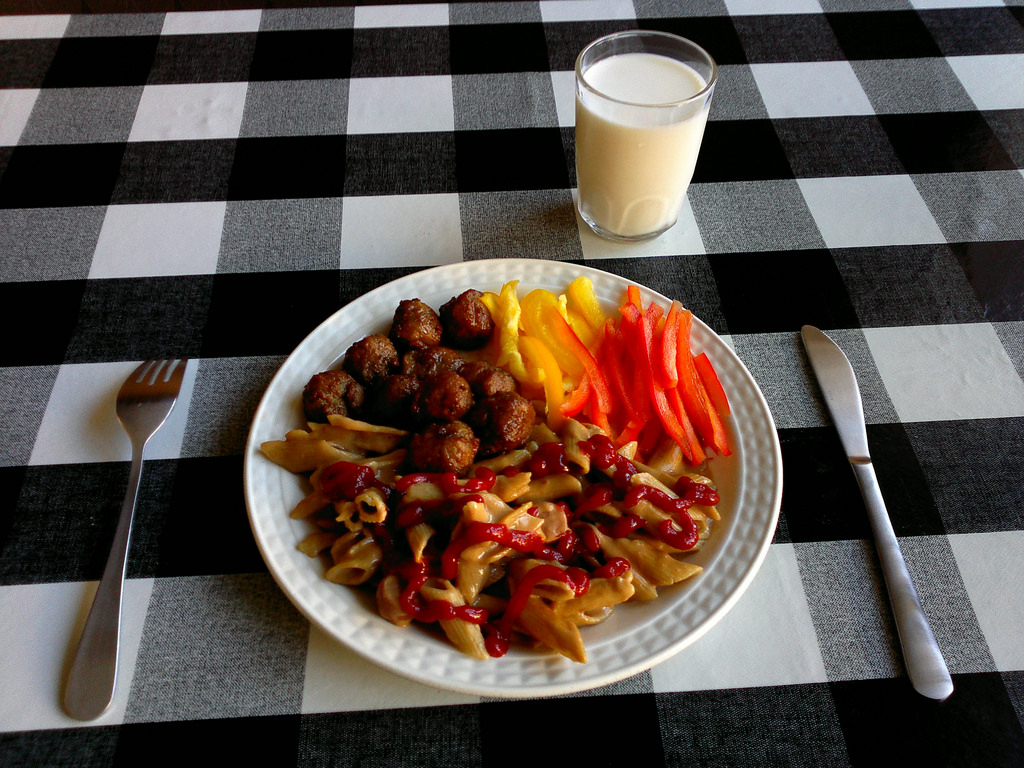glass of milk: (568, 39, 715, 241)
meatballs: (404, 413, 483, 472), (379, 373, 434, 431), (436, 291, 491, 348), (476, 390, 529, 446), (304, 365, 359, 418), (392, 294, 440, 349), (341, 339, 399, 381), (425, 374, 471, 418), (475, 361, 513, 405)
